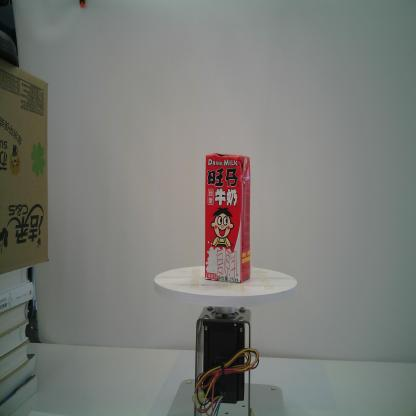Milk: (204, 152, 251, 284)
